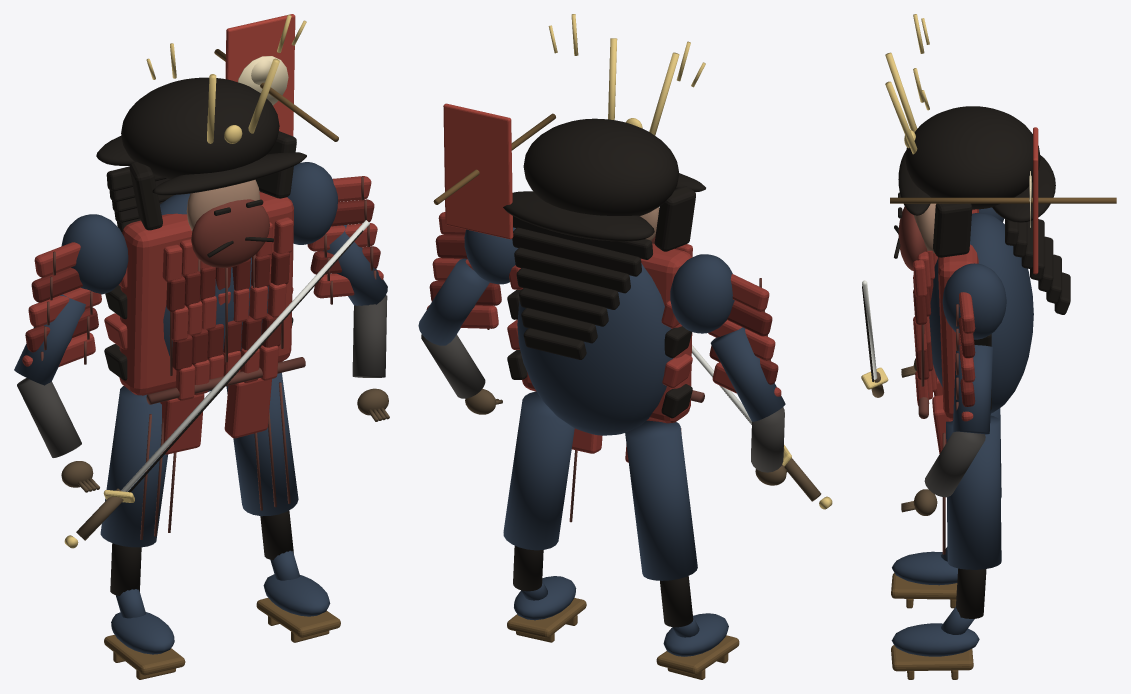
The model's file is takeda-08.glb.
3 views of the same model, side by side, from view 1: azimuth 30°, elevation 25°; view 2: azimuth 150°, elevation 25°; view 3: azimuth 270°, elevation 25° (orthographic). The views are drawn at different scales.
Visible parts, largest first — view 1: kabuto_helmet_bowl, do_cuirass_core, left_hakama_outer_fold, right_hakama_outer_fold, mempo_cheek_mask, banner_cloth, left_rounded_shoulder_undercloth, right_rounded_shoulder_undercloth, left_forearm_kote, helmet_front_brim, right_forearm_kote, left_upper_arm_cloth (+47 smaller); view 2: cloth_torso_underlayer, kabuto_helmet_bowl, left_hakama_outer_fold, banner_cloth, right_hakama_outer_fold, left_rounded_shoulder_undercloth, helmet_rear_flare, left_upper_arm_cloth, right_upper_arm_cloth, shikoro_neck_guard_1, shikoro_neck_guard_2, do_cuirass_core (+26 smaller); view 3: kabuto_helmet_bowl, cloth_torso_underlayer, right_hakama_outer_fold, right_rounded_shoulder_undercloth, right_upper_arm_cloth, do_cuirass_core, right_forearm_kote, right_tabi_sock, right_fukigaeshi_flare, left_tabi_sock, banner_pole, helmet_rear_flare (+21 smaller).
Part boxes in pixels (x1,y1,x2,y2): kabuto_helmet_bowl: (121,77,279,179); do_cuirass_core: (119,191,293,395); left_hakama_outer_fold: (100,386,167,547); right_hakama_outer_fold: (226,372,298,516); mempo_cheek_mask: (191,199,269,268); banner_cloth: (225,14,295,136); left_rounded_shoulder_undercloth: (61,214,128,294); right_rounded_shoulder_undercloth: (287,162,337,244); left_forearm_kote: (17,378,81,457); helmet_front_brim: (152,152,306,195); right_forearm_kote: (352,295,387,377); left_upper_arm_cloth: (14,294,85,385); cloth_torso_underlayer: (517,263,673,435); kabuto_helmet_bowl: (523,118,679,215); left_hakama_outer_fold: (625,420,697,580); banner_cloth: (443,103,513,239); right_hakama_outer_fold: (503,391,574,550); left_rounded_shoulder_undercloth: (670,254,734,333); helmet_rear_flare: (503,191,654,241); left_upper_arm_cloth: (710,327,785,421); right_upper_arm_cloth: (418,258,489,345); shikoro_neck_guard_1: (512,227,641,276); shikoro_neck_guard_2: (514,247,630,293); do_cuirass_core: (522,243,692,423); kabuto_helmet_bowl: (905,106,1040,209); cloth_torso_underlayer: (929,212,1033,413); right_hakama_outer_fold: (946,415,1001,569); right_rounded_shoulder_undercloth: (942,263,1006,339); right_upper_arm_cloth: (952,345,992,434); do_cuirass_core: (938,209,978,419); right_forearm_kote: (924,431,985,497); right_tabi_sock: (891,623,979,656); right_fukigaeshi_flare: (933,203,972,257); left_tabi_sock: (892,551,957,585); banner_pole: (890,197,1116,203); helmet_rear_flare: (992,155,1055,222).
Bounding box in the file's own units: 1.19 × 1.94 × 0.7552.
